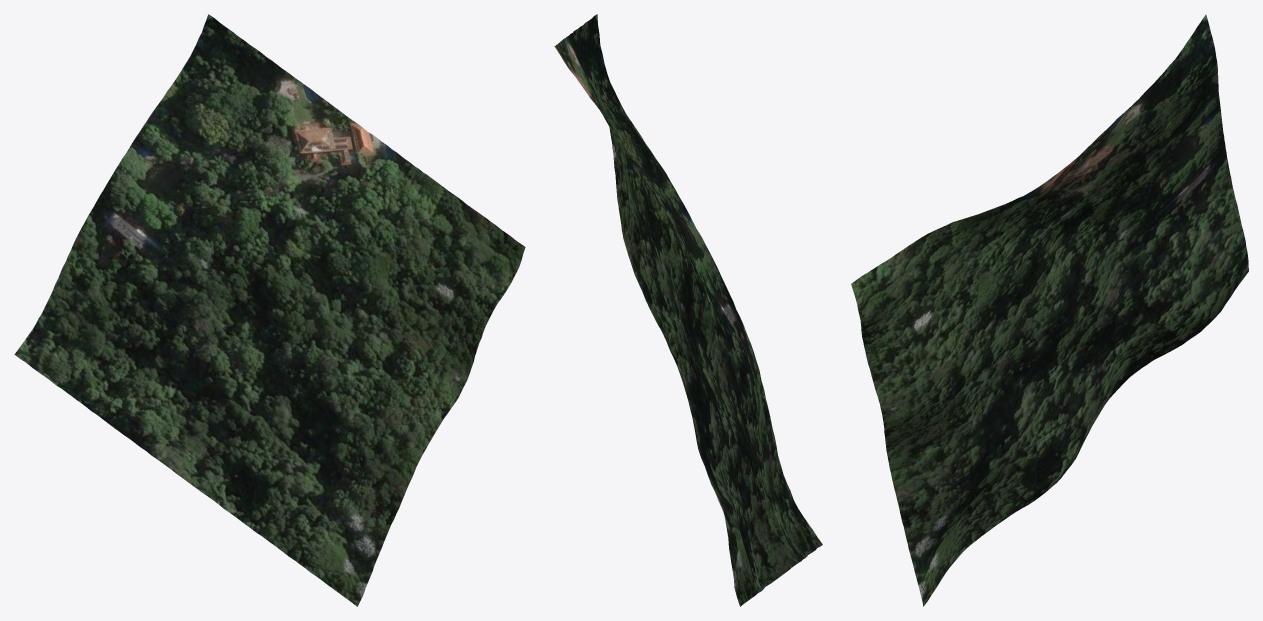
3 views of the same model, side by side, from view 1: azimuth 30°, elevation 25°; view 2: azimuth 150°, elevation 25°; view 3: azimuth 270°, elevation 25° (orthographic). The views are drawn at different scales.
Size of the model in its own units: 282 by 406 by 253.
1 material, 1 textured.
